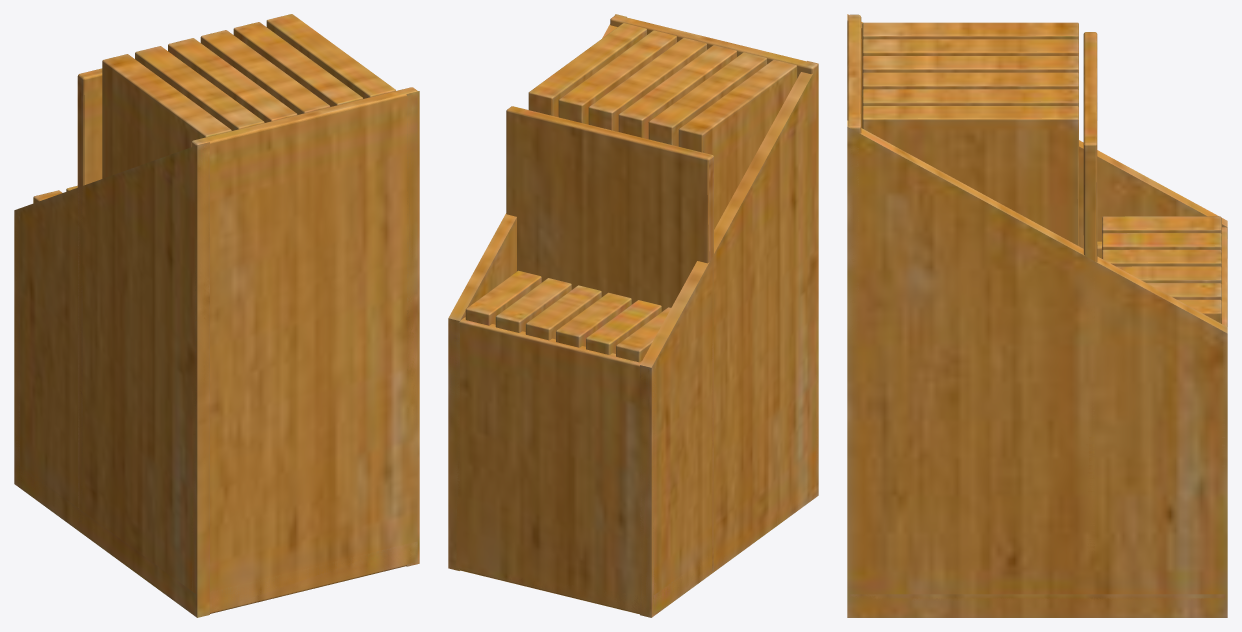
3 views of the same model, side by side, from view 1: azimuth 30°, elevation 25°; view 2: azimuth 150°, elevation 25°; view 3: azimuth 270°, elevation 25° (orthographic). The views are drawn at different scales.
Visible parts, largest first — view 1: body; view 2: body; view 3: body.
Boxes of the visible parts, left/top/right/bottom form: body: left=14, top=14, right=419, bottom=617; body: left=448, top=14, right=818, bottom=617; body: left=847, top=14, right=1227, bottom=617.
Size of the model in its own units: 0.0965 by 0.1961 by 0.1375.
1 material, 1 textured.
